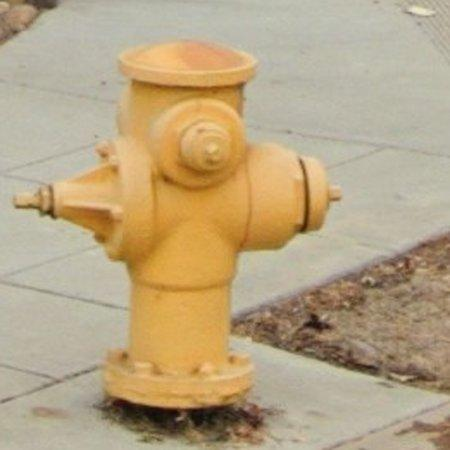a fire hydrant: (14, 40, 342, 410)
